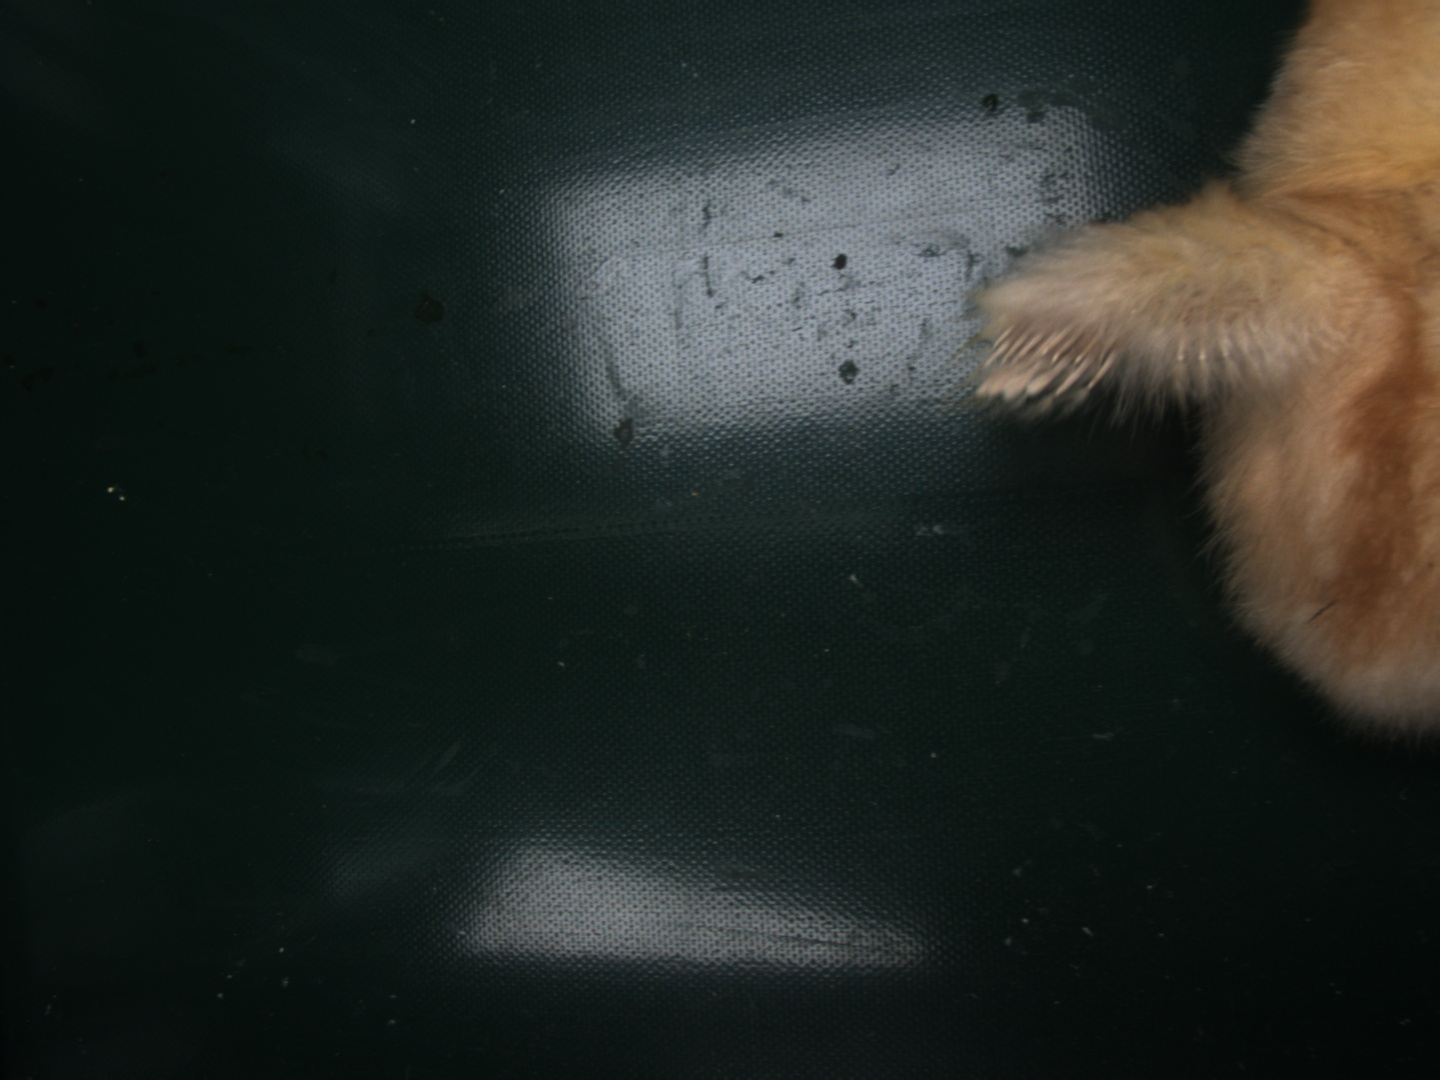female: (979, 319, 1121, 400)
